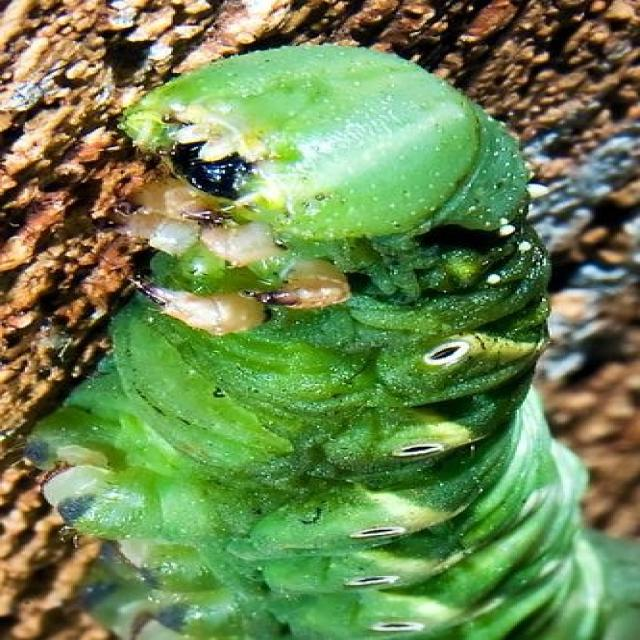army worm: (34, 52, 618, 640)
